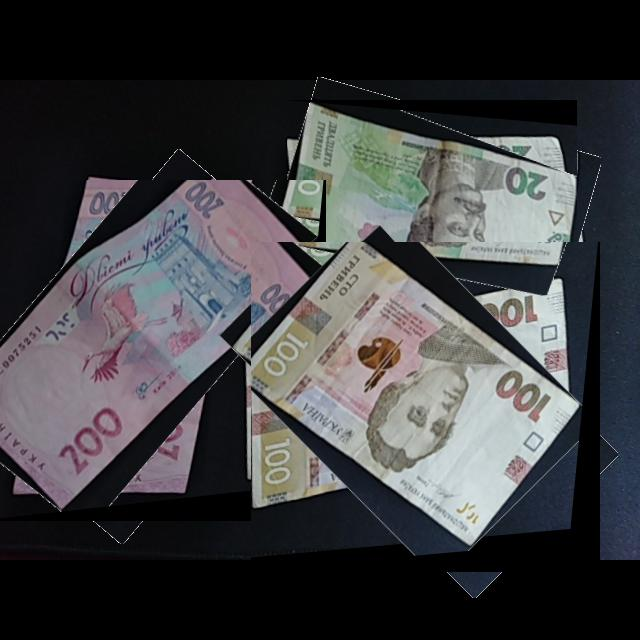100uah: (251, 242, 587, 555)
200uah: (0, 180, 318, 514)
20uah: (287, 102, 578, 295)
